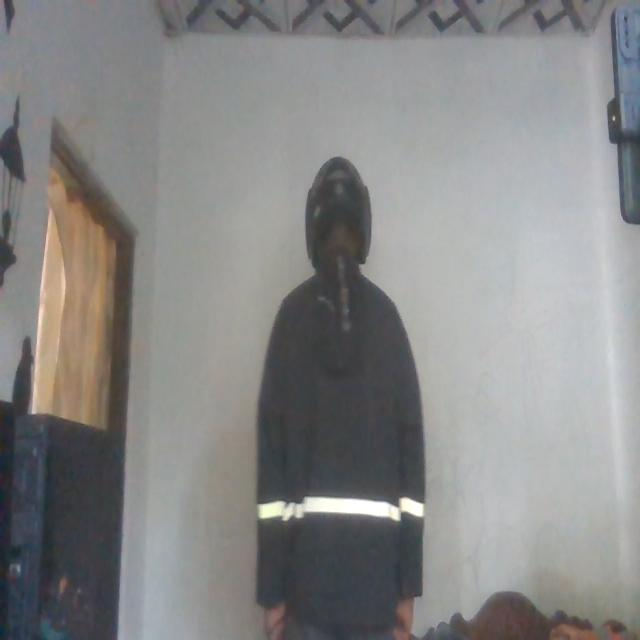Helmet_Wearer: (298, 152, 367, 276)
Jacket_Wearer: (247, 259, 433, 640)
Person: (247, 148, 433, 638)
